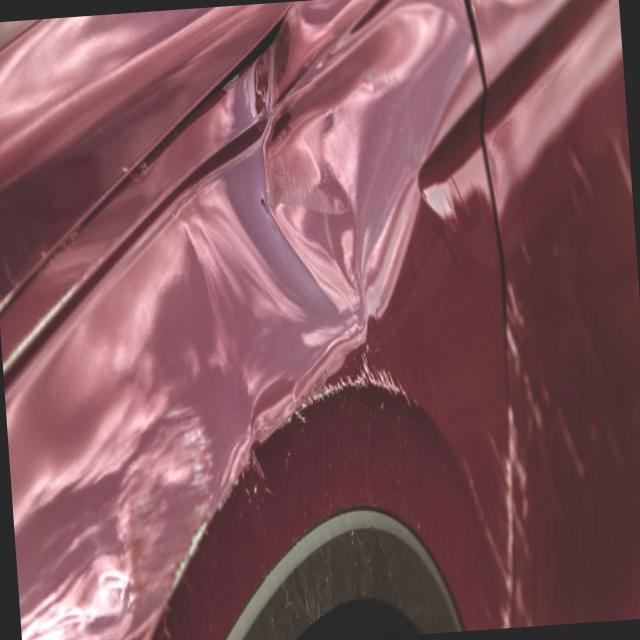Cabossage: (247, 19, 437, 363)
Rayure: (142, 366, 433, 611), (465, 273, 555, 627)
